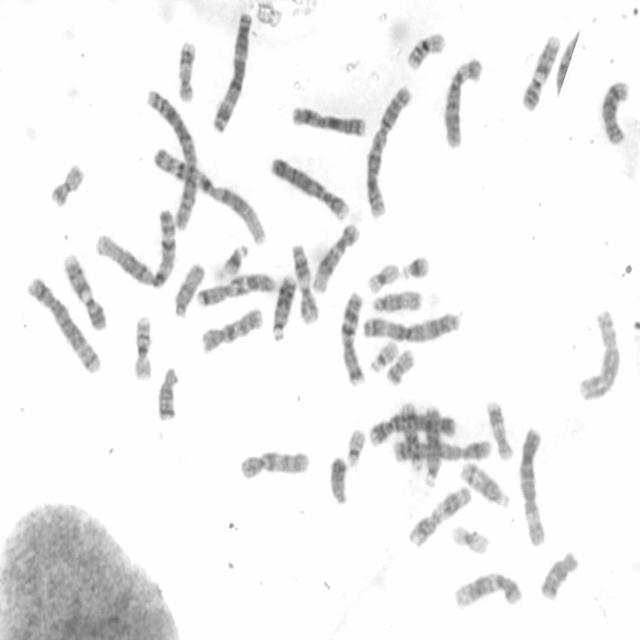A1: (148, 140, 270, 247), (90, 201, 179, 291)
A2: (140, 82, 201, 231), (361, 78, 414, 220)
A3: (207, 4, 255, 134), (358, 305, 462, 344)
B4: (266, 149, 352, 222), (364, 406, 460, 448)
B5: (22, 268, 102, 376), (387, 432, 494, 464)
C10: (197, 300, 266, 355), (234, 443, 312, 481)
C11: (403, 479, 472, 549), (287, 237, 320, 326)
C12: (308, 216, 361, 294), (448, 566, 524, 610)
C6: (438, 49, 486, 150), (515, 420, 549, 548)
C7: (192, 266, 278, 309), (336, 284, 368, 388)
C8: (574, 302, 622, 403), (596, 74, 631, 147)
C9: (58, 245, 108, 333), (517, 27, 562, 112)
D13: (267, 268, 299, 342), (419, 399, 442, 488)
D14: (456, 455, 511, 510), (397, 395, 424, 473)
D15: (170, 256, 207, 320), (368, 284, 423, 314)
E16: (402, 24, 448, 72), (129, 308, 154, 382)
E17: (482, 393, 516, 462), (172, 33, 198, 104)
E18: (535, 544, 580, 602), (152, 360, 181, 423)
F19: (447, 518, 492, 556), (362, 257, 401, 295)
F20: (45, 156, 86, 208), (382, 342, 416, 387)
G21: (211, 235, 250, 282), (397, 248, 432, 281)
G22: (364, 333, 400, 374), (342, 422, 367, 468)
X: (287, 98, 368, 138)
Y: (325, 450, 350, 506)
